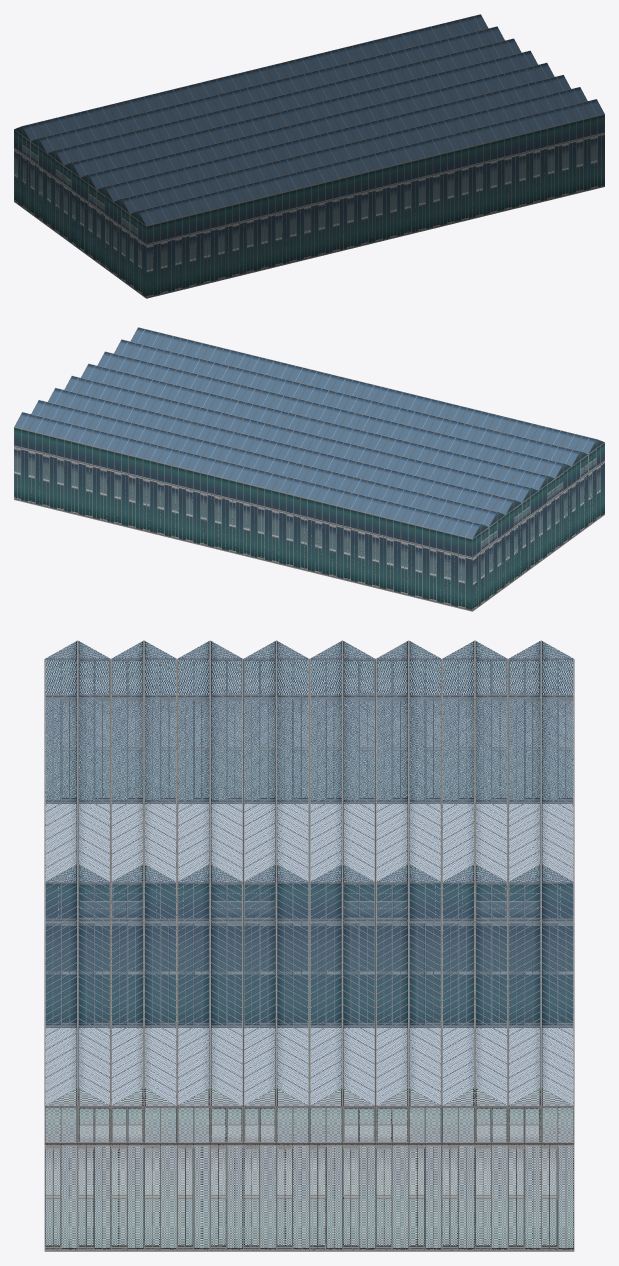
Rendered from kas_mod2_4a.fbx.
3 views of the same model, one above another, from view 1: azimuth 30°, elevation 25°; view 2: azimuth 150°, elevation 25°; view 3: azimuth 270°, elevation 25° (orthographic). The views are drawn at different scales.
Visible parts, largest first — view 1: kas_mod2_4a; view 2: kas_mod2_4a; view 3: kas_mod2_4a.
Part boxes in pixels (left/top/right/bottom): kas_mod2_4a: left=14, top=14, right=604, bottom=298; kas_mod2_4a: left=14, top=327, right=604, bottom=611; kas_mod2_4a: left=44, top=640, right=574, bottom=1251.
Size of the model in its own units: 8000 by 1364 by 4000.
